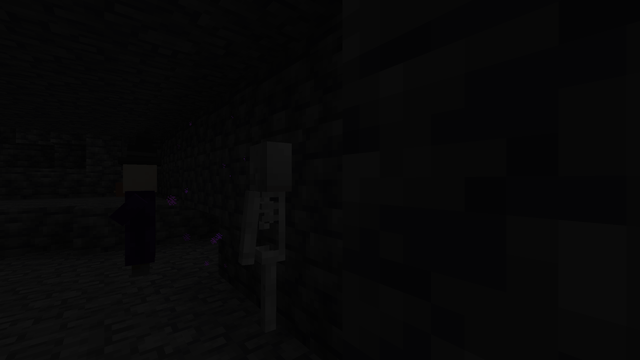sorcieres: (118, 159, 163, 280)
squelettes: (242, 141, 293, 349)
